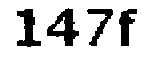1: (12, 7, 45, 49)
4: (46, 5, 78, 47)
7: (82, 6, 114, 50)
f: (114, 7, 144, 48)
